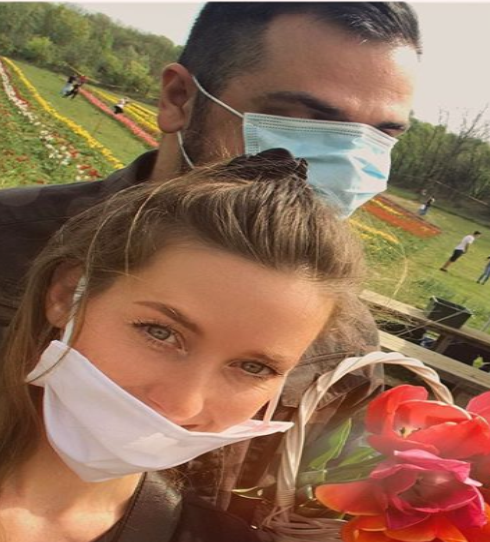mask_weared_incorrect: (32, 190, 338, 482), (157, 2, 431, 224)
